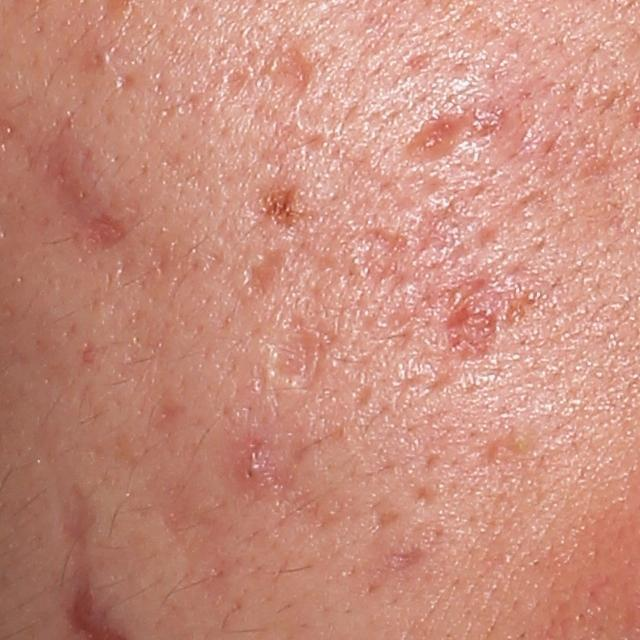atrophic_scar: (161, 469, 246, 610), (54, 470, 119, 559), (397, 108, 486, 167), (350, 227, 405, 286), (367, 545, 429, 590), (269, 326, 317, 380)
comedo: (87, 49, 109, 69)
papule: (230, 444, 279, 496)
